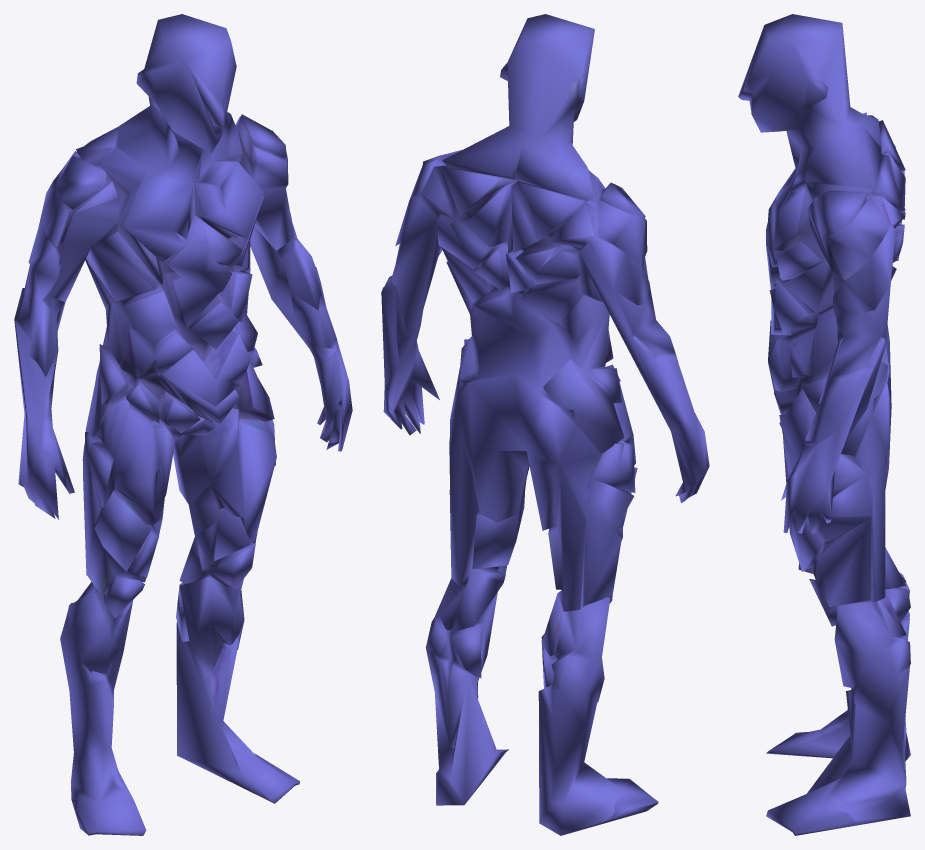
Rendered from model.progressive.glb.
3 views of the same model, side by side, from view 1: azimuth 30°, elevation 25°; view 2: azimuth 150°, elevation 25°; view 3: azimuth 270°, elevation 25° (orthographic). The views are drawn at different scales.
Parts seen in each view (by area): view 1: material; view 2: material; view 3: material.
Boxes of the visible parts, x1,y1,x2,y2 form: material: [14, 14, 352, 835]; material: [381, 14, 709, 835]; material: [738, 14, 910, 835].
Size of the model in its own units: 0.8025 by 1.86 by 0.3847.
Materials: 1 (1 with a texture image).
